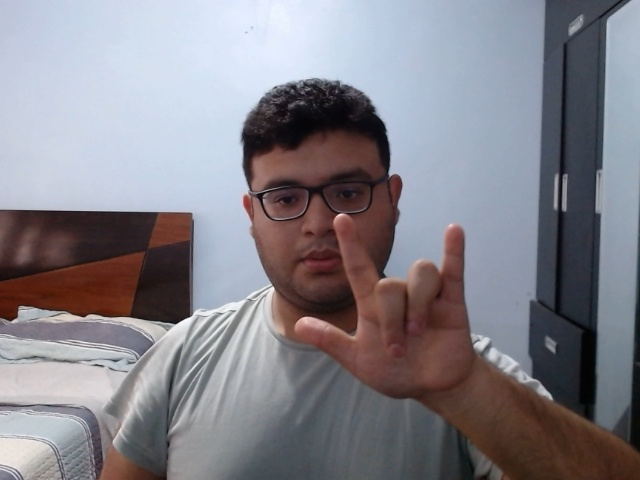I love you: (291, 211, 498, 409)
